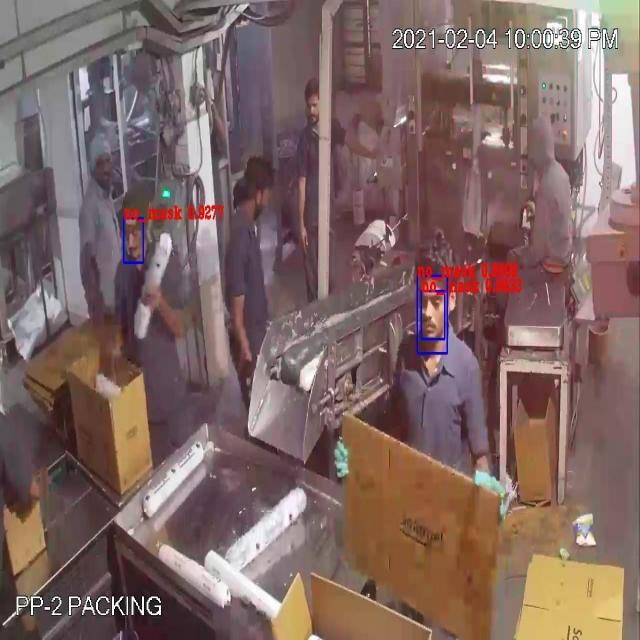No_Gloves: (21, 51, 364, 328)
